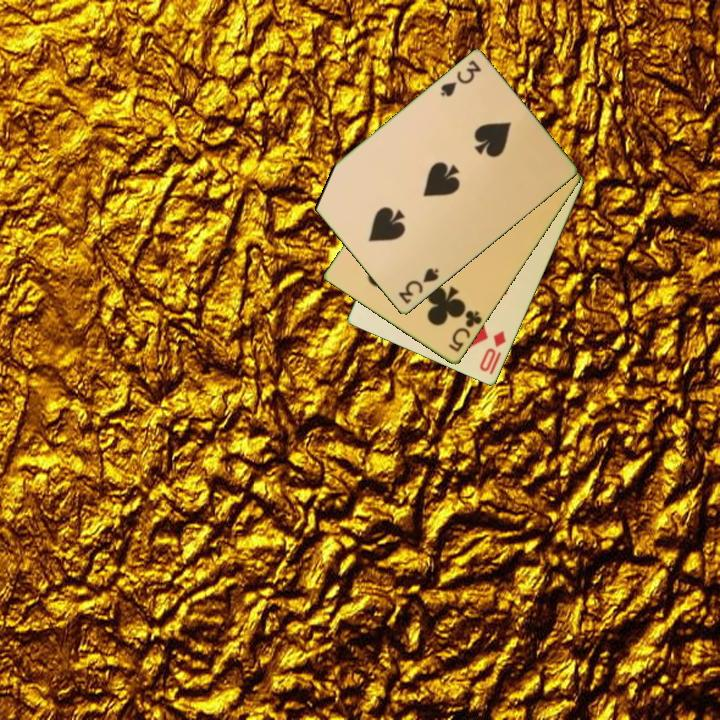10d: (476, 327, 509, 375)
3s: (437, 57, 484, 100), (394, 265, 442, 307)
5c: (445, 307, 485, 355)
